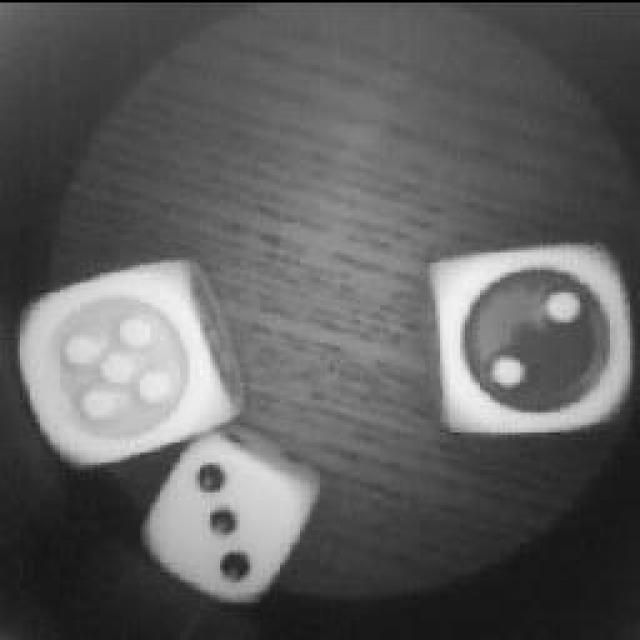dice_2: (430, 230, 638, 438)
dice_3: (145, 428, 320, 598)
dice_5: (20, 252, 228, 458)
